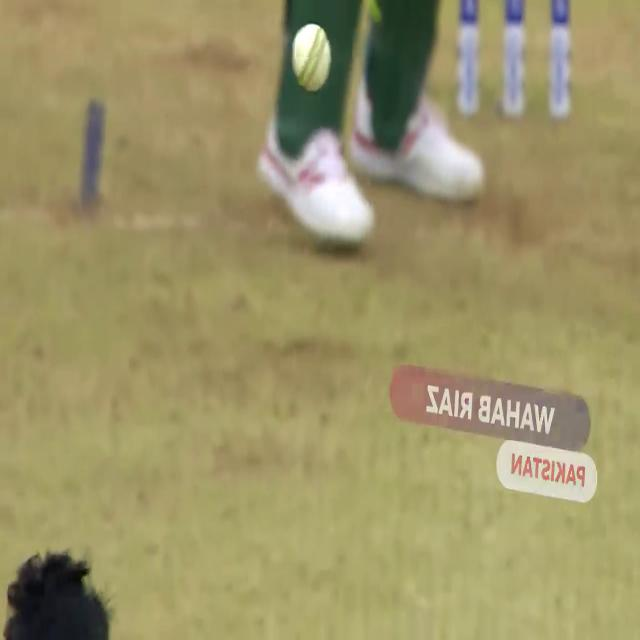ball: (290, 22, 335, 94)
